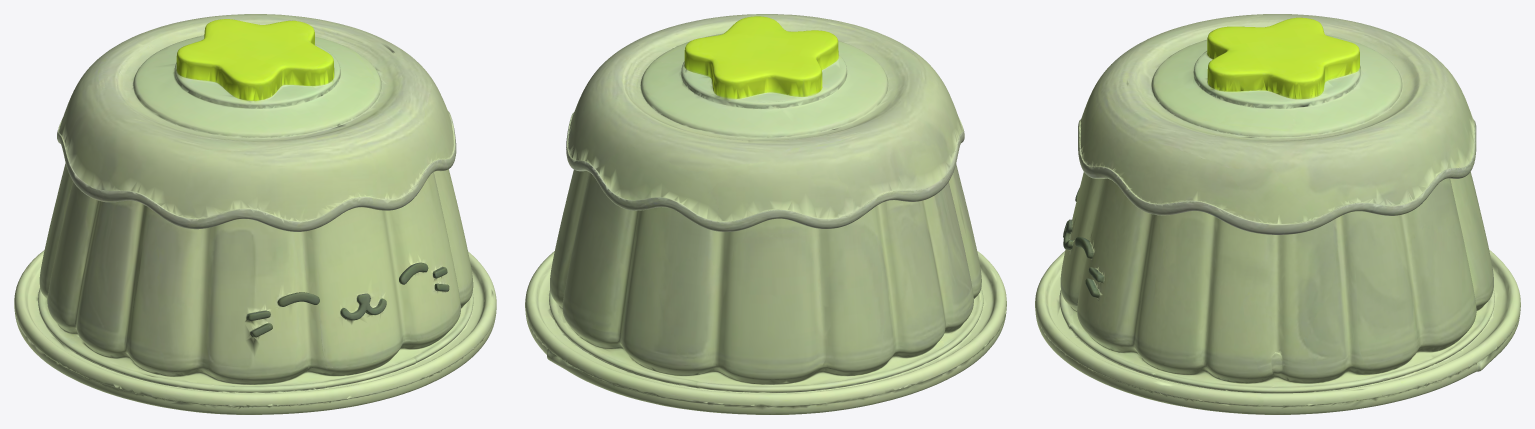
The model's file is food-pudding.glb.
The picture shows the model from 3 angles, left to right: view 1: azimuth 30°, elevation 25°; view 2: azimuth 150°, elevation 25°; view 3: azimuth 270°, elevation 25°; orthographic projection.
Size of the model in its own units: 1.02 by 0.622 by 1.02.
Materials: 1 (1 with a texture image).
